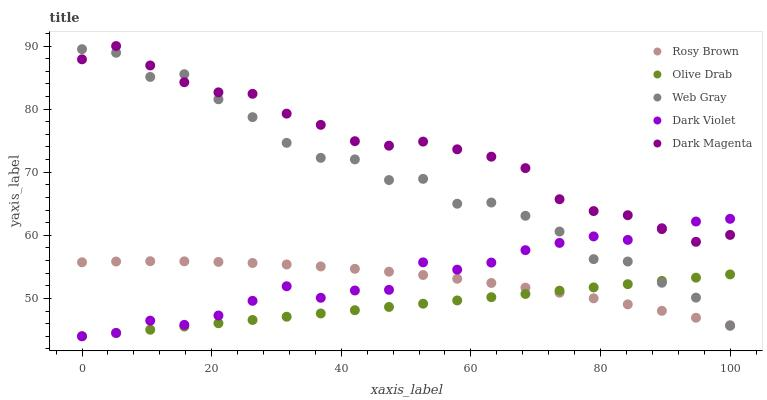axis: (56, 346, 764, 356), (44, 31, 53, 348)
legend: (646, 33, 759, 158)
point: (177, 256, 189, 267), (554, 284, 564, 296), (726, 319, 736, 331), (146, 72, 157, 82), (384, 284, 394, 295), (316, 308, 326, 319), (77, 44, 87, 54), (386, 267, 396, 277), (351, 284, 361, 294), (248, 296, 258, 306), (179, 320, 189, 330), (77, 259, 87, 269), (249, 258, 258, 269), (213, 257, 222, 268), (77, 55, 87, 64), (522, 211, 531, 221), (726, 228, 735, 238), (622, 279, 632, 288), (488, 258, 497, 268), (384, 301, 393, 311), (283, 260, 292, 270), (112, 41, 121, 50), (146, 60, 155, 69), (453, 144, 462, 153), (624, 235, 633, 244), (112, 329, 121, 338), (454, 199, 462, 209), (520, 246, 530, 254), (317, 295, 327, 303), (146, 316, 154, 326), (626, 256, 633, 267), (215, 87, 223, 96), (352, 155, 360, 164), (694, 273, 702, 282), (556, 227, 565, 235), (112, 258, 121, 266), (249, 316, 258, 324), (146, 258, 156, 265), (318, 121, 326, 129), (388, 141, 396, 149), (591, 206, 599, 214), (659, 224, 667, 232), (694, 293, 702, 301), (693, 313, 701, 321), (489, 278, 497, 286), (727, 213, 734, 222), (591, 282, 598, 291), (250, 113, 257, 121), (659, 278, 666, 286), (556, 238, 563, 246), (524, 162, 530, 171), (624, 302, 631, 309)
